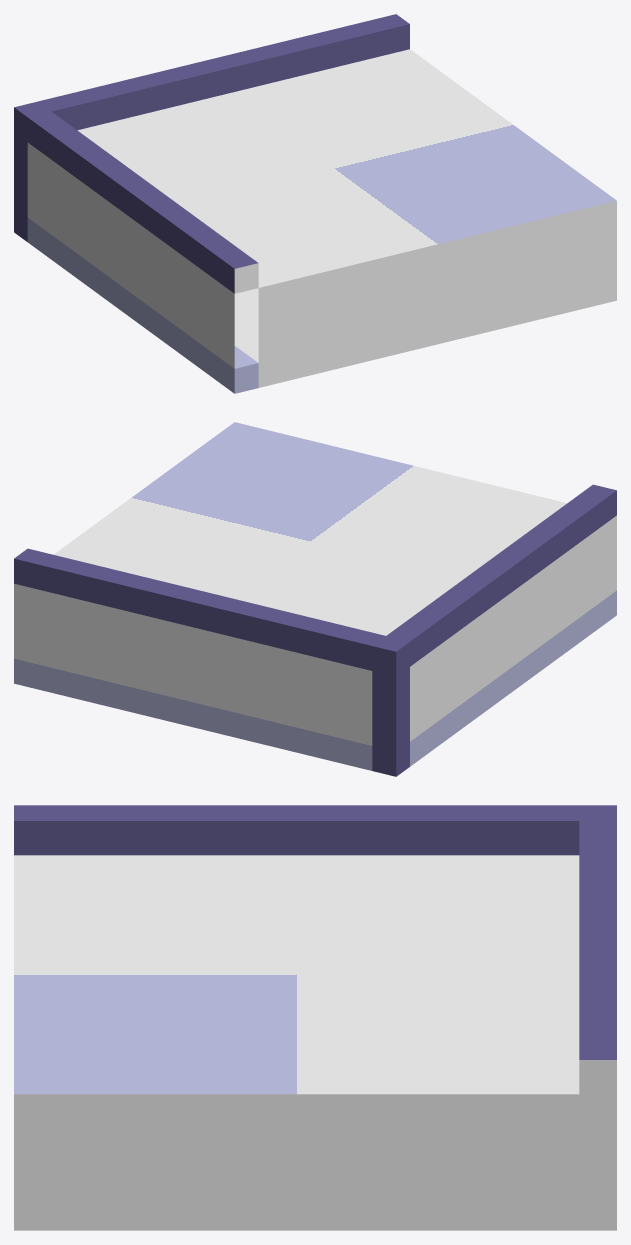
Rendered from BuildingRoofCorner.gltf.
3 renders of one model, top to bottom at view 1: azimuth 30°, elevation 25°; view 2: azimuth 150°, elevation 25°; view 3: azimuth 270°, elevation 25°, orthographic. The views are drawn at different scales.
Parts seen in each view (by area): view 1: BuildingRoofCorner; view 2: BuildingRoofCorner; view 3: BuildingRoofCorner.
Boxes of the visible parts, x1,y1,x2,y2 form: BuildingRoofCorner: (14, 14, 616, 393); BuildingRoofCorner: (14, 422, 616, 776); BuildingRoofCorner: (14, 805, 616, 1230).
Size of the model in its own units: 1 by 0.3125 by 1.
Materials: 1 (1 with a texture image).
